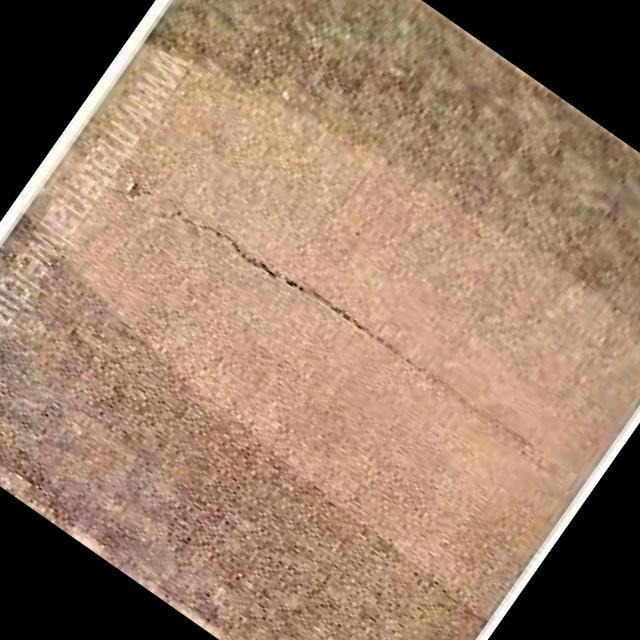defect: (140, 208, 541, 458)
